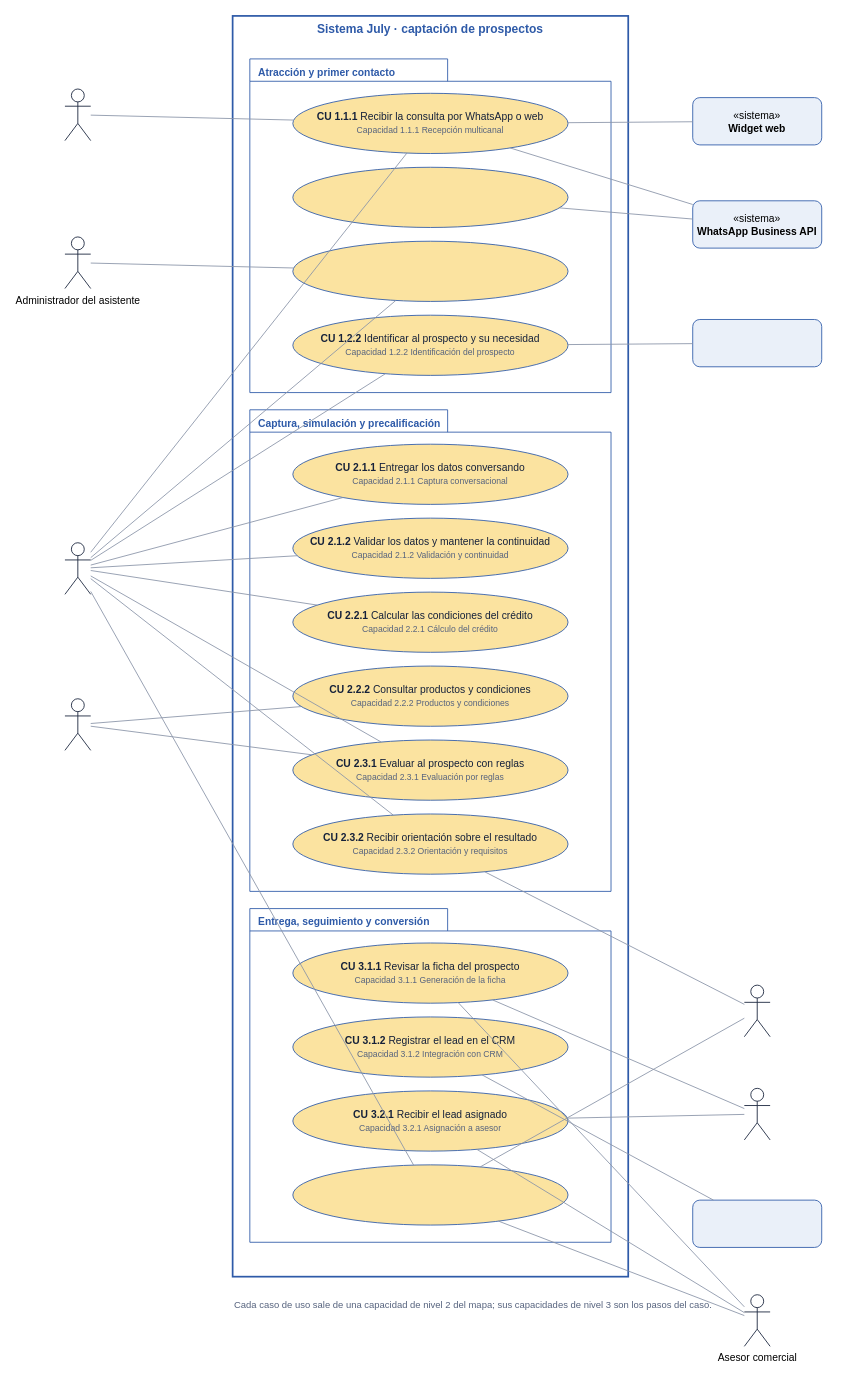
Image size: 867x1379. Some labels were removed from this diagram. The shapes that lost their labels are listed below. From the top down, each one's centre as x and y in pixels, then its label:
(77,114): Equipo de marketing
(430,196): CU 1.1.2 Unificar los mensajes entrantes Capacidad 1.1.2 Unificación de mensajes
(430,270): CU 1.2.1 Recibir atención inmediata Capacidad 1.2.1 Atención inmediata
(757,343): «sistema» Sistema core
(77,568): Prospecto
(77,724): Área de productos y crédito
(756,1010): Personal de agencia
(756,1113): Jefe comercial
(430,1194): CU 3.2.2 Hacer seguimiento y cerrar el lead Capacidad 3.2.2 Seguimiento y cierre
(757,1223): «sistema» CRM de la cooperativa
